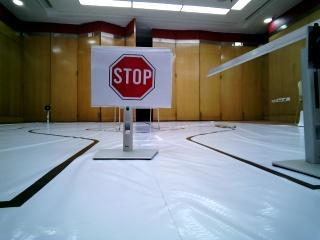stop: (95, 48, 169, 106), (202, 109, 203, 110)
